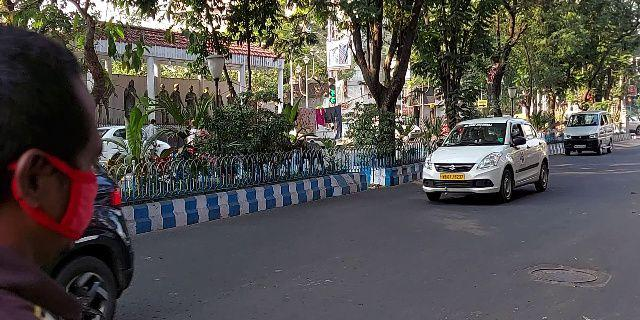Car: (420, 114, 550, 205)
Van: (563, 108, 615, 157)
